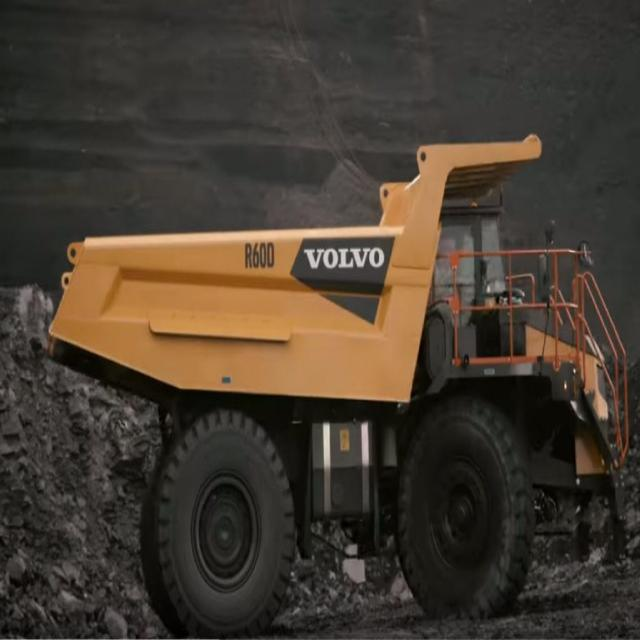dump_truck: (46, 125, 624, 628)
